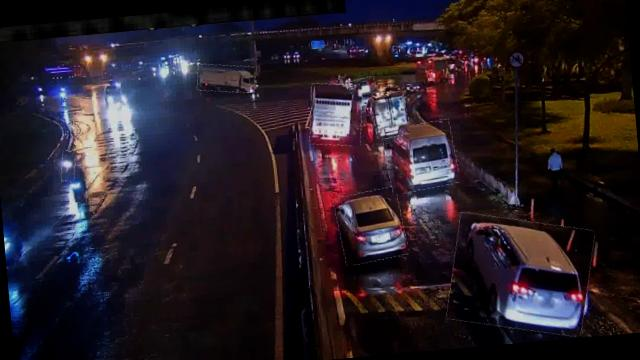Bike: (68, 164, 89, 204), (60, 150, 76, 182)
Bus: (382, 121, 459, 194), (371, 92, 410, 140)
Car: (444, 208, 598, 342), (334, 186, 408, 265), (348, 77, 376, 97)
Truck: (308, 81, 366, 148), (196, 61, 258, 96)
